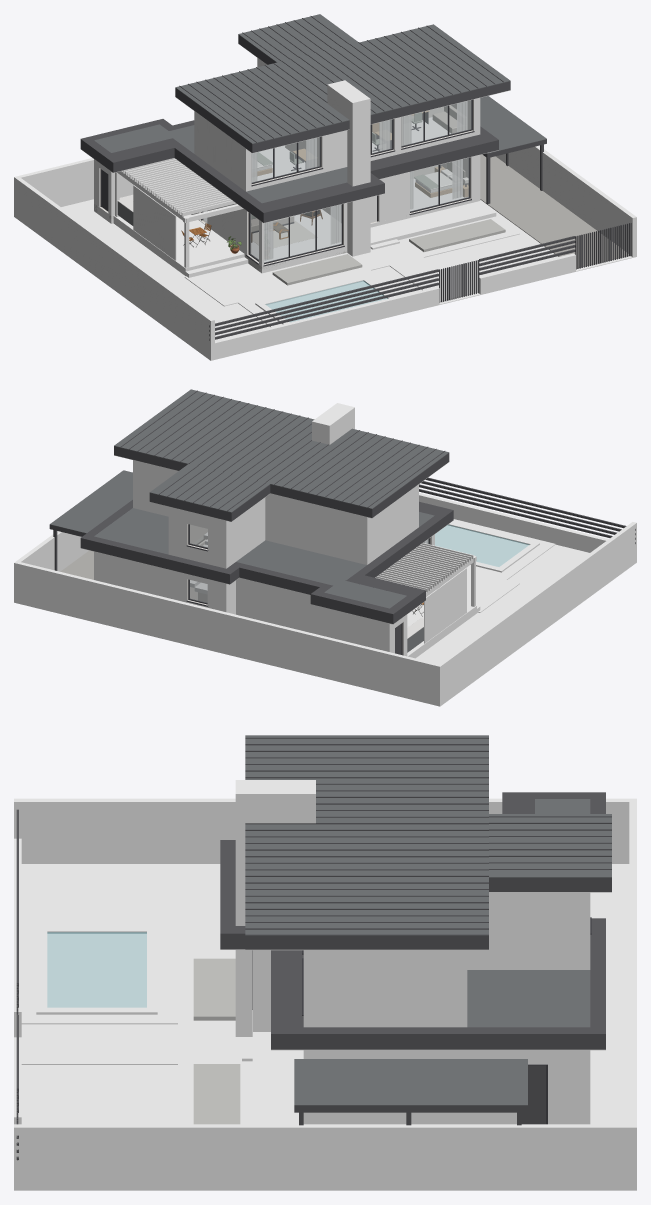
The model's file is brick-house.glb.
The picture shows the model from 3 angles, top to bottom: view 1: azimuth 30°, elevation 25°; view 2: azimuth 150°, elevation 25°; view 3: azimuth 270°, elevation 25°; orthographic projection. The views are drawn at different scales.
Visible parts, largest first — view 1: Site__Fence_Render, Roof_F2__Roof_MetalSeam, Site__Paving, Roof_F1__Fascia_Metal, Site__Fascia_Metal, Site__Lawn, Roof_F2__Fascia_Metal, Terrace__Pergola_Wood, Windows_F1__Glass, Site__Paving_Drive, Facade_F2__Facade_WoodPanel, Windows_F2__Glass (+18 smaller); view 2: Site__Fence_Render, Roof_F2__Roof_MetalSeam, Facade_F2__Facade_WoodPanel, Facade_F1__Facade_Travertine, Roof_F1__Fascia_Metal, Roof_F2__Fascia_Metal, Roof_F1__Roof_MetalSeam, Terrace__Pergola_Wood, Site__Lawn, Site__Paving, Site__Fascia_Metal, Site__Roof_MetalSeam (+5 smaller); view 3: Site__Fence_Render, Roof_F2__Roof_MetalSeam, Site__Lawn, Site__Paving, Facade_F2__Facade_WoodPanel, Roof_F2__Fascia_Metal, Roof_F1__Fascia_Metal, Site__Roof_MetalSeam, Facade_F1__Facade_Travertine, Roof_F1__Roof_MetalSeam, Site__Water, Pylon__Facade_Travertine (+5 smaller).
Boxes of the visible parts, x1=… form: Site__Fence_Render: x1=14, y1=145, x2=636, y2=360; Roof_F2__Roof_MetalSeam: x1=175, y1=14, x2=510, y2=143; Site__Paving: x1=184, y1=201, x2=519, y2=326; Roof_F1__Fascia_Metal: x1=80, y1=119, x2=498, y2=222; Site__Fascia_Metal: x1=209, y1=139, x2=631, y2=340; Site__Lawn: x1=14, y1=199, x2=636, y2=360; Roof_F2__Fascia_Metal: x1=175, y1=16, x2=510, y2=152; Terrace__Pergola_Wood: x1=115, y1=158, x2=243, y2=267; Windows_F1__Glass: x1=202, y1=158, x2=468, y2=262; Site__Paving_Drive: x1=480, y1=154, x2=628, y2=268; Facade_F2__Facade_WoodPanel: x1=194, y1=58, x2=480, y2=191; Windows_F2__Glass: x1=252, y1=100, x2=471, y2=182; Site__Fence_Render: x1=14, y1=493, x2=636, y2=705; Roof_F2__Roof_MetalSeam: x1=114, y1=389, x2=449, y2=512; Facade_F2__Facade_WoodPanel: x1=133, y1=460, x2=418, y2=568; Facade_F1__Facade_Travertine: x1=94, y1=534, x2=434, y2=656; Roof_F1__Fascia_Metal: x1=80, y1=500, x2=453, y2=623; Roof_F2__Fascia_Metal: x1=114, y1=390, x2=449, y2=521; Roof_F1__Roof_MetalSeam: x1=94, y1=508, x2=434, y2=608; Terrace__Pergola_Wood: x1=375, y1=543, x2=476, y2=643; Site__Lawn: x1=14, y1=544, x2=636, y2=706; Site__Paving: x1=425, y1=519, x2=555, y2=612; Site__Fascia_Metal: x1=49, y1=477, x2=635, y2=570; Site__Roof_MetalSeam: x1=50, y1=470, x2=132, y2=533; Site__Fence_Render: x1=14, y1=798, x2=636, y2=1189; Roof_F2__Roof_MetalSeam: x1=245, y1=735, x2=611, y2=935; Site__Lawn: x1=14, y1=864, x2=636, y2=1190; Site__Paving: x1=21, y1=910, x2=303, y2=1124; Facade_F2__Facade_WoodPanel: x1=303, y1=892, x2=590, y2=1027; Roof_F2__Fascia_Metal: x1=245, y1=737, x2=611, y2=949; Roof_F1__Fascia_Metal: x1=220, y1=792, x2=605, y2=1049; Site__Roof_MetalSeam: x1=294, y1=1059, x2=527, y2=1105; Facade_F1__Facade_Travertine: x1=253, y1=950, x2=590, y2=1124; Roof_F1__Roof_MetalSeam: x1=467, y1=799, x2=590, y2=1027; Site__Water: x1=47, y1=932, x2=146, y2=1007; Pylon__Facade_Travertine: x1=235, y1=780, x2=315, y2=1036.
Size of the model in its own units: 25 by 8.68 by 20.
Materials: 59 (14 with a texture image).
